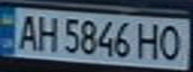4: (97, 18, 118, 57)
5: (60, 16, 81, 55)
6: (112, 19, 136, 60)
8: (78, 17, 100, 56)
A: (12, 11, 42, 52)
H: (33, 12, 60, 53), (136, 20, 163, 61)
O: (157, 23, 187, 62)
